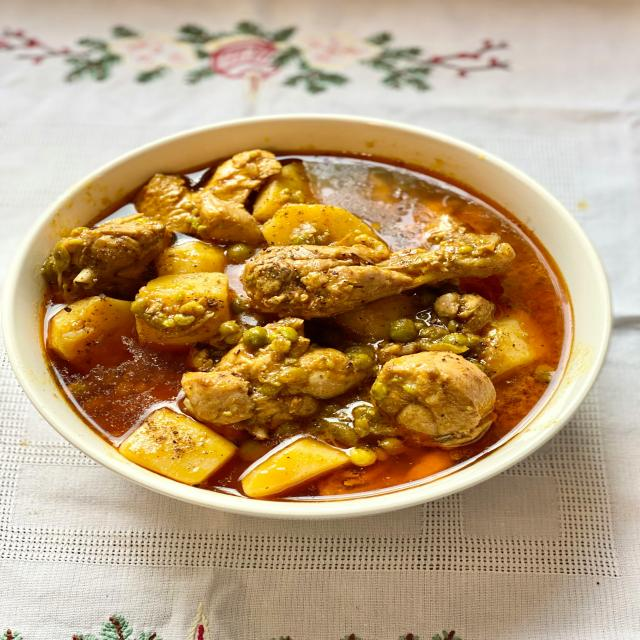Chicken Curry: (49, 143, 575, 501)
